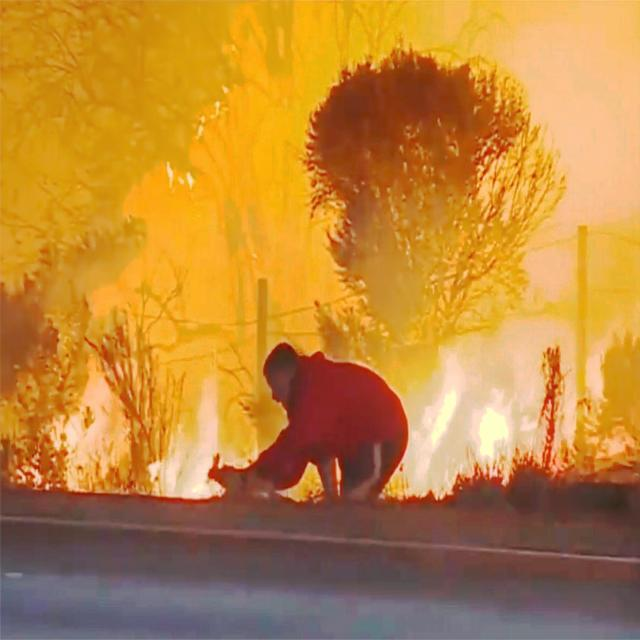api: (411, 359, 469, 490), (161, 408, 219, 505), (472, 404, 522, 476), (164, 163, 204, 192)
